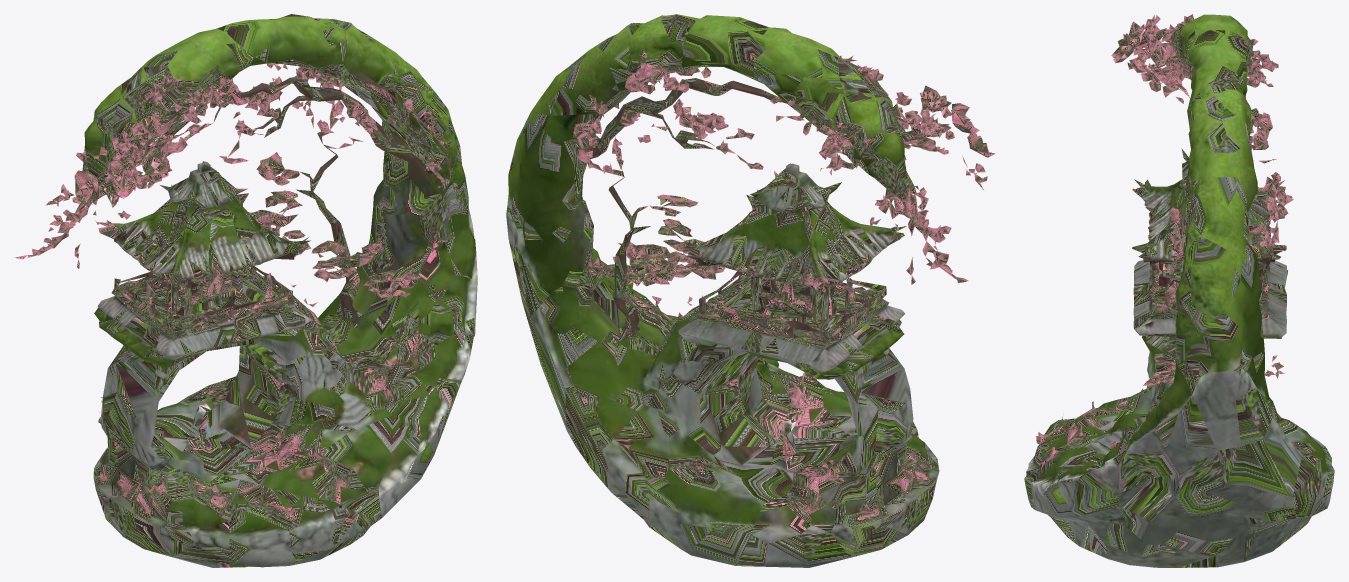
Rendered from bq_moongate.lod.glb.
The picture shows the model from 3 angles, left to right: view 1: azimuth 30°, elevation 25°; view 2: azimuth 150°, elevation 25°; view 3: azimuth 270°, elevation 25°; orthographic projection. The views are drawn at different scales.
Size of the model in its own units: 1.85 by 1.9 by 1.11.
Materials: 1 (1 with a texture image).
